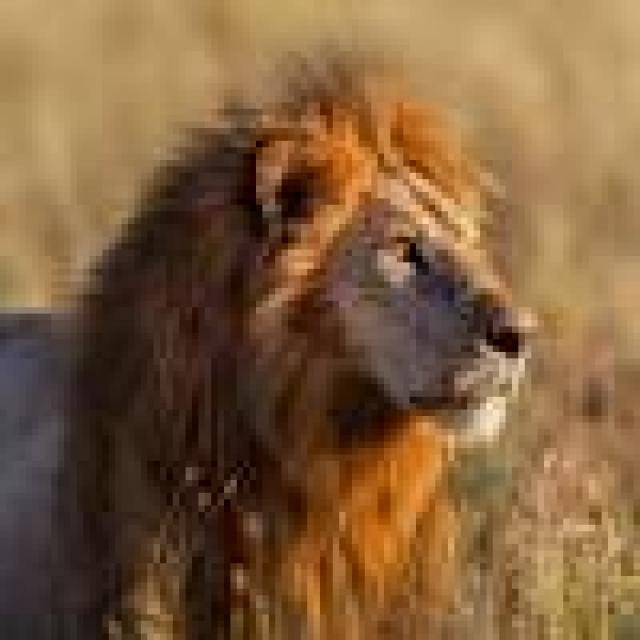Lion: (0, 84, 550, 634)
